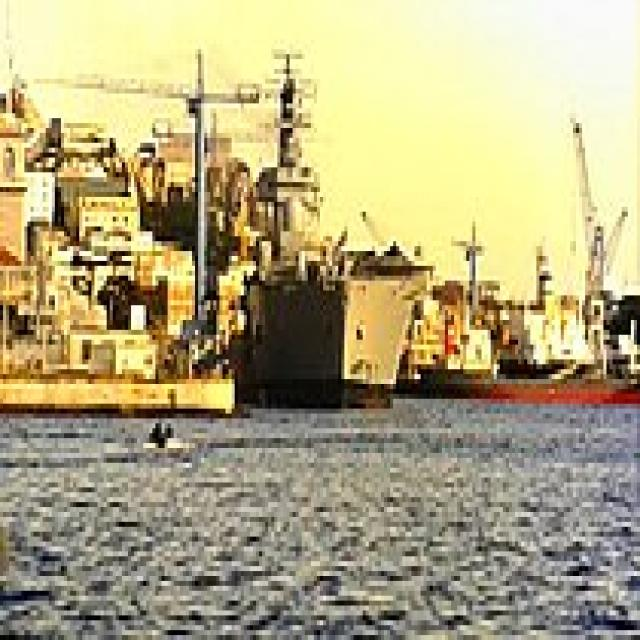Warship: (219, 44, 426, 409)
